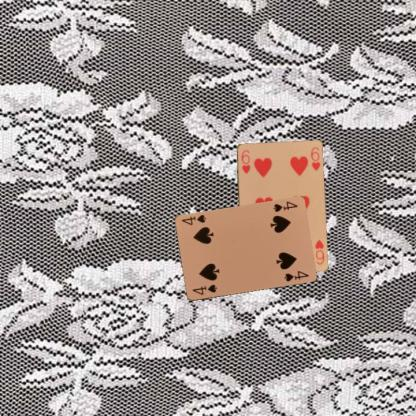4s: (189, 282, 218, 296), (270, 199, 299, 213)
6h: (312, 237, 325, 265), (239, 148, 251, 174)
